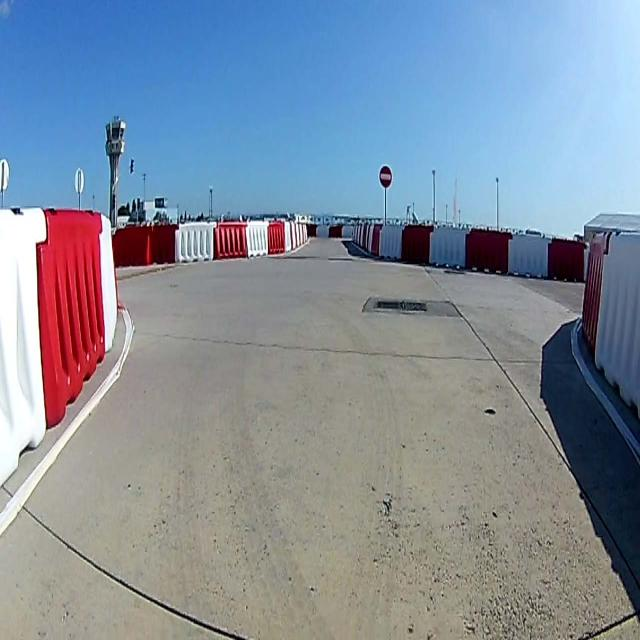girisyok: (379, 165, 393, 188)
